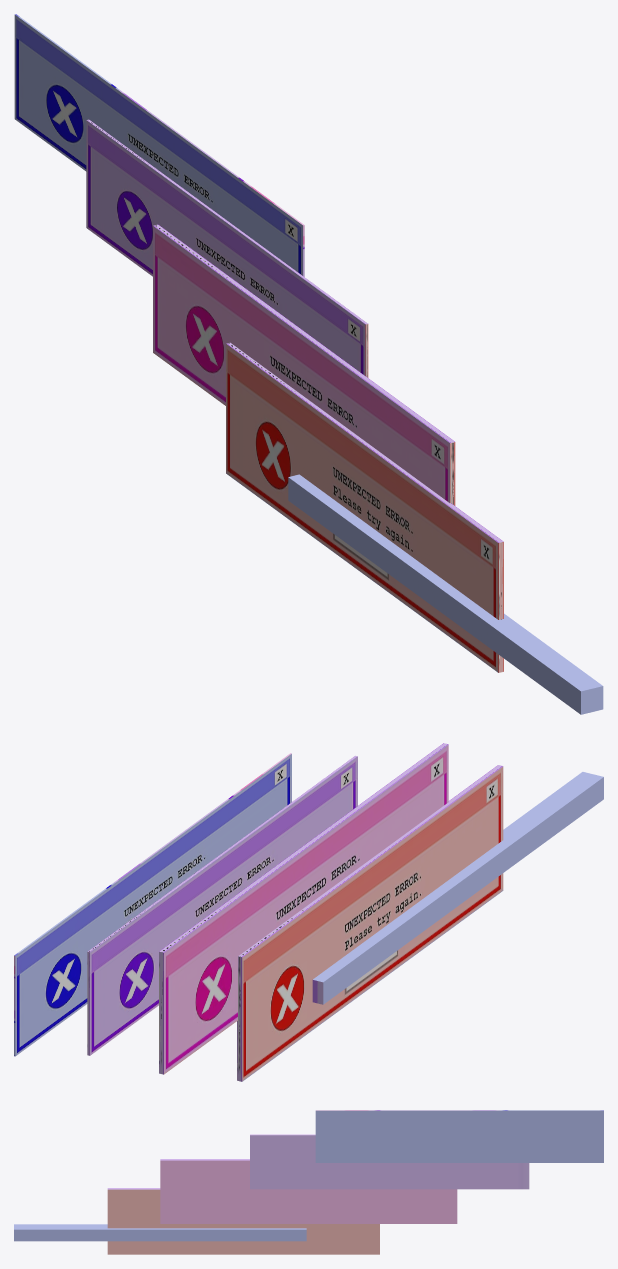
Rendered from pm-frame-program-retro-01.glb.
The picture shows the model from 3 angles, top to bottom: view 1: azimuth 30°, elevation 25°; view 2: azimuth 150°, elevation 25°; view 3: azimuth 270°, elevation 25°; orthographic projection. The views are drawn at different scales.
Visible parts, largest first — view 1: Frame_Program_Retro_01; view 2: Frame_Program_Retro_01; view 3: Frame_Program_Retro_01.
Boxes of the visible parts, x1,y1,x2,y2 form: Frame_Program_Retro_01: [14, 14, 603, 714]; Frame_Program_Retro_01: [14, 743, 603, 1081]; Frame_Program_Retro_01: [14, 1110, 603, 1254].
Bounding box in the file's own units: 0.1508 × 1.66 × 6.09.
Materials: 1 (1 with a texture image).
